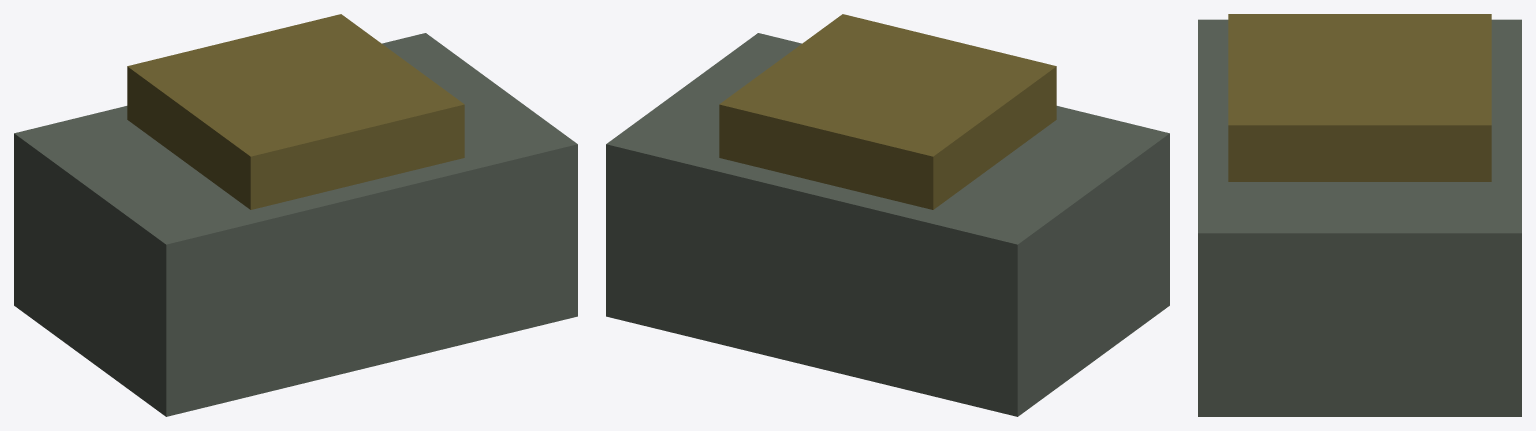
The model's file is 081_L103_LED4.fbx.
3 renders of one model, left to right at view 1: azimuth 30°, elevation 25°; view 2: azimuth 150°, elevation 25°; view 3: azimuth 270°, elevation 25°, orthographic. The views are drawn at different scales.
Visible parts, largest first — view 1: 081_L103_LED4; view 2: 081_L103_LED4; view 3: 081_L103_LED4.
Part boxes in pixels (x1,y1,x2,y2): 081_L103_LED4: [14, 14, 577, 416]; 081_L103_LED4: [606, 14, 1169, 416]; 081_L103_LED4: [1198, 14, 1521, 416].
Size of the model in its own units: 0.25 by 0.131 by 0.16.
